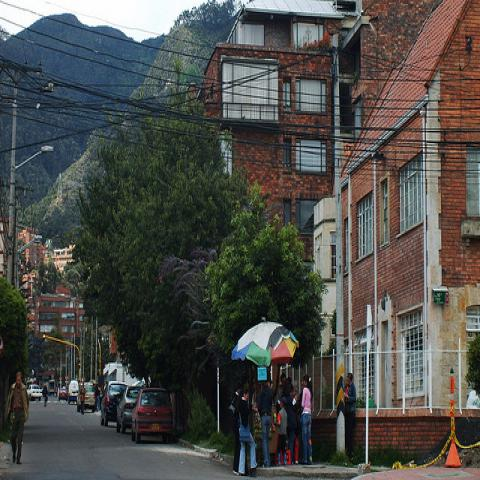car: (132, 388, 172, 442), (101, 380, 129, 427), (116, 387, 142, 434), (76, 382, 96, 412), (68, 380, 79, 403), (27, 385, 41, 402), (58, 388, 68, 402)
